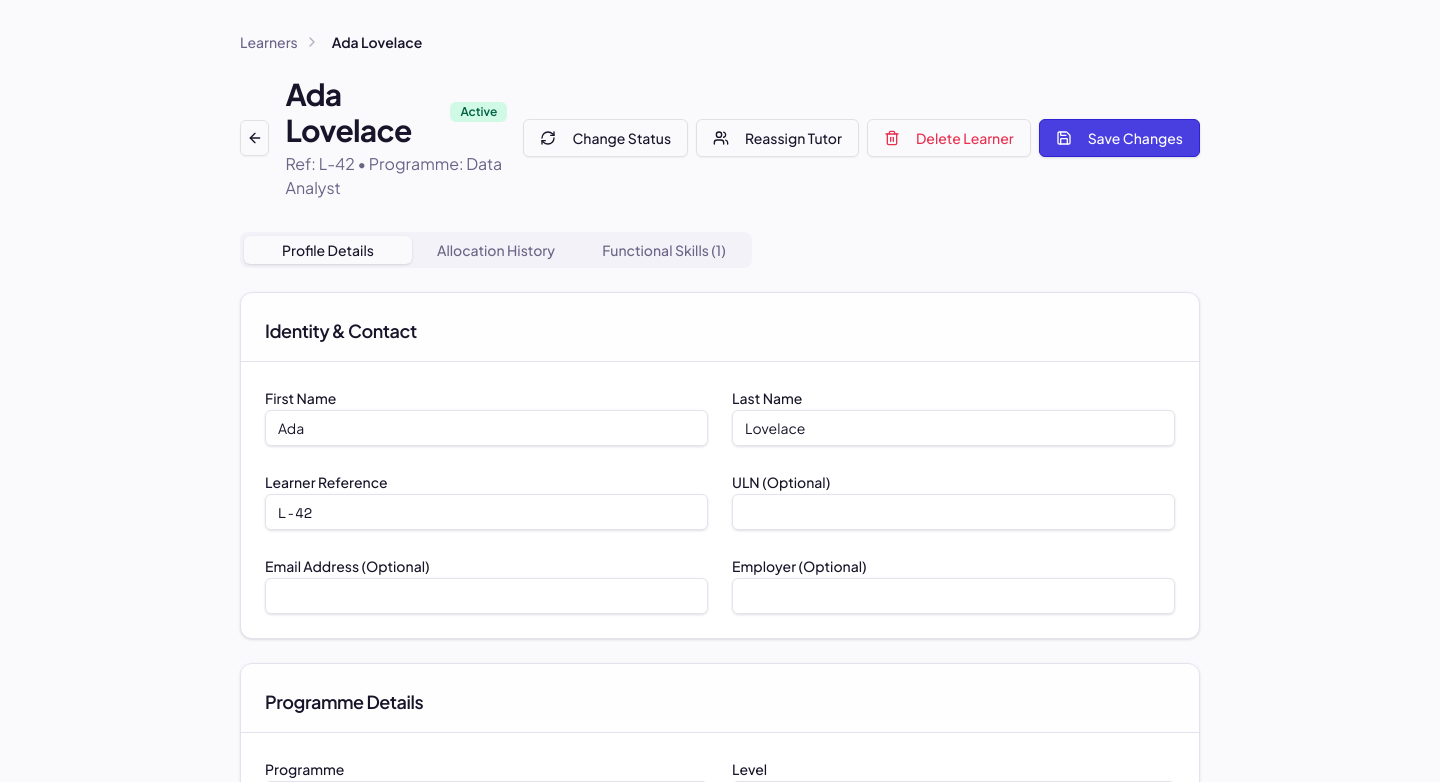
Test: LearnerDetailPage for an existing learner › excludes the learner's current tutor from the New Tutor options
Click the button "Reassign Tutor".
click(778, 138)  # box [696, 119, 859, 157]
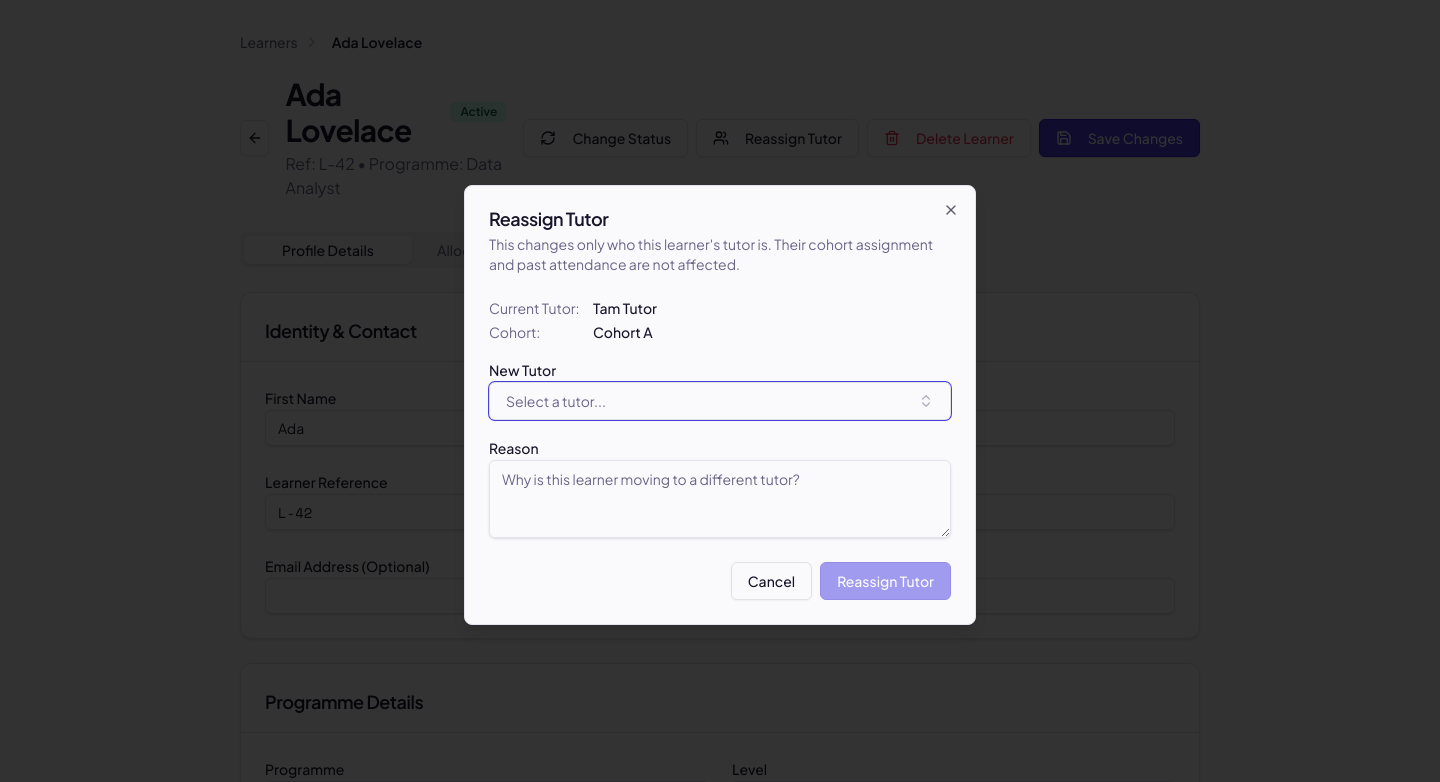
Click the dropdown named "new tutor".
click(556, 401)  # box [489, 382, 951, 420]
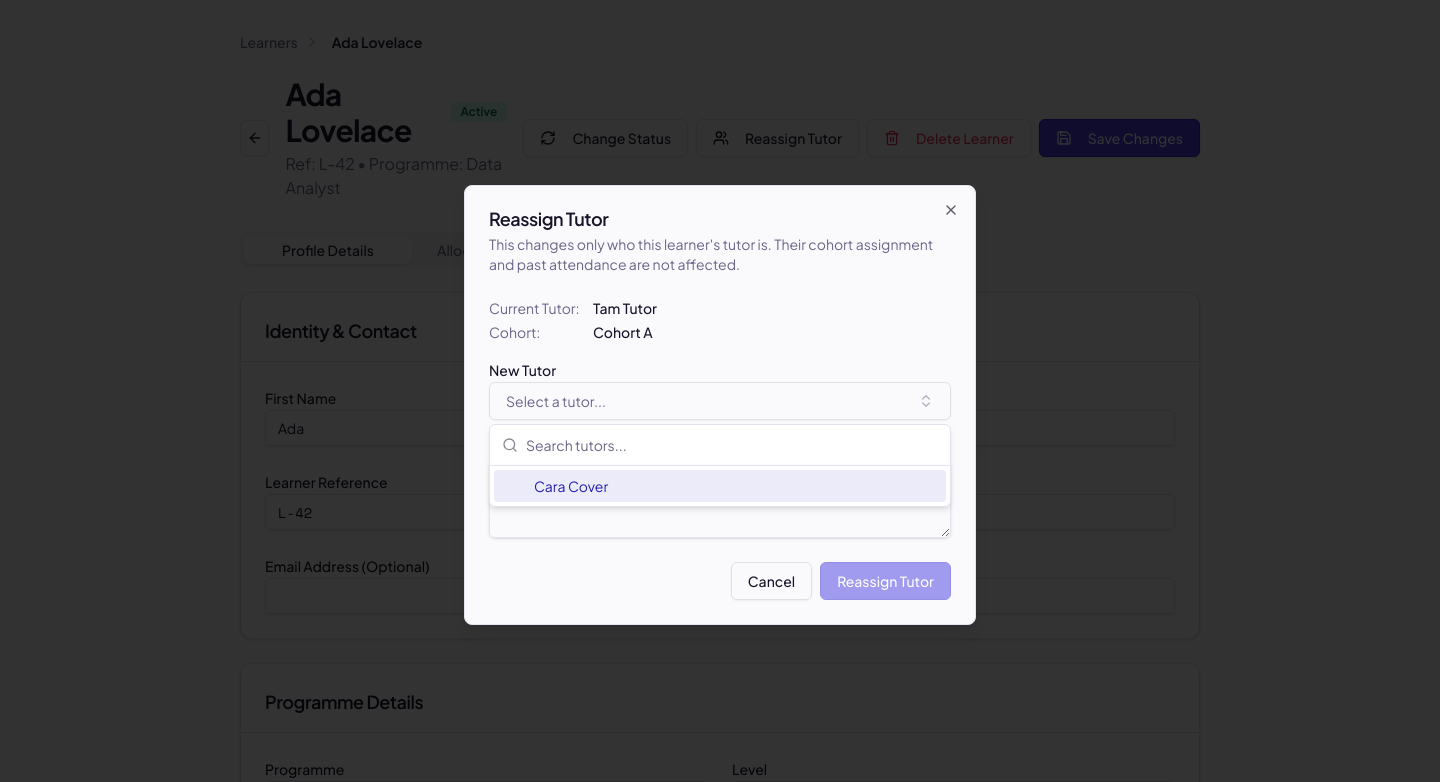
Expected: the text "Tam Tutor" is shown once, [593, 298, 657, 318]
Expected: the option "Cara Cover" is shown, [494, 470, 946, 502]
